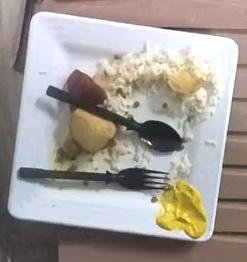potato: (47, 70, 116, 152)
rice: (94, 47, 217, 139)
